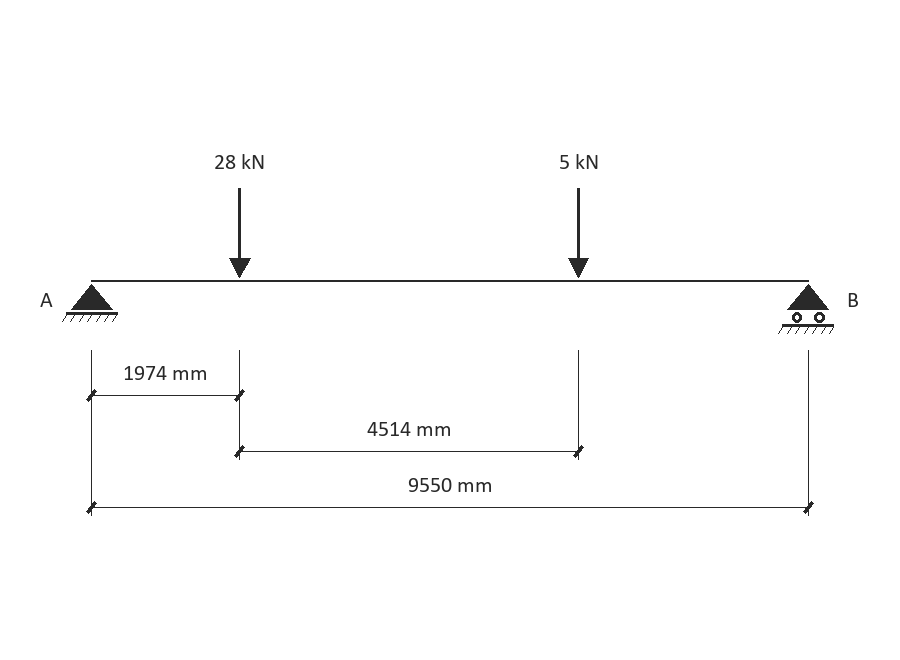pin_support: (62, 284, 118, 322)
point_load: (229, 188, 251, 278), (568, 188, 589, 278)
roller_support: (778, 284, 834, 334)
